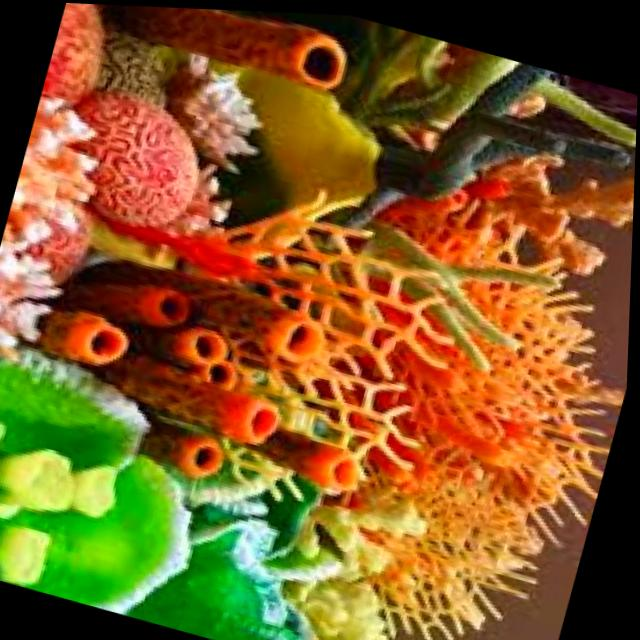Healthy Coral: (251, 140, 636, 640), (0, 216, 404, 546), (306, 11, 640, 266), (46, 79, 247, 254), (91, 3, 385, 115)
